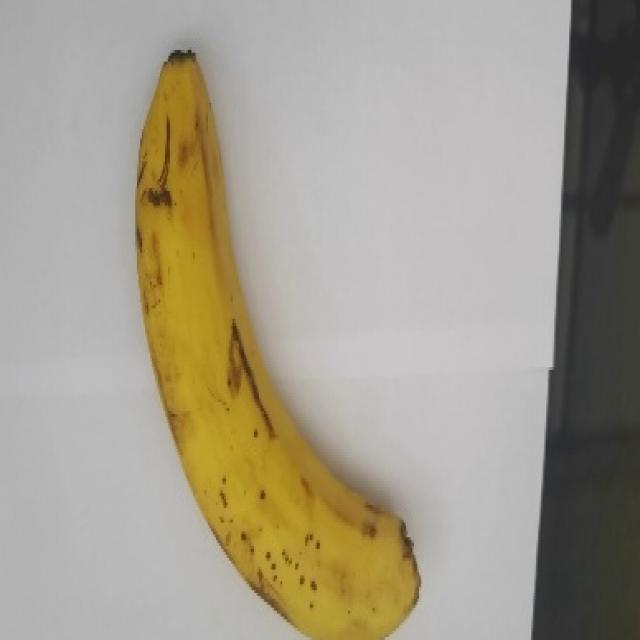Banana: (133, 47, 421, 639)
